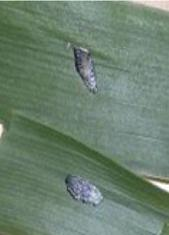pest: (62, 32, 118, 106), (38, 158, 123, 206)
